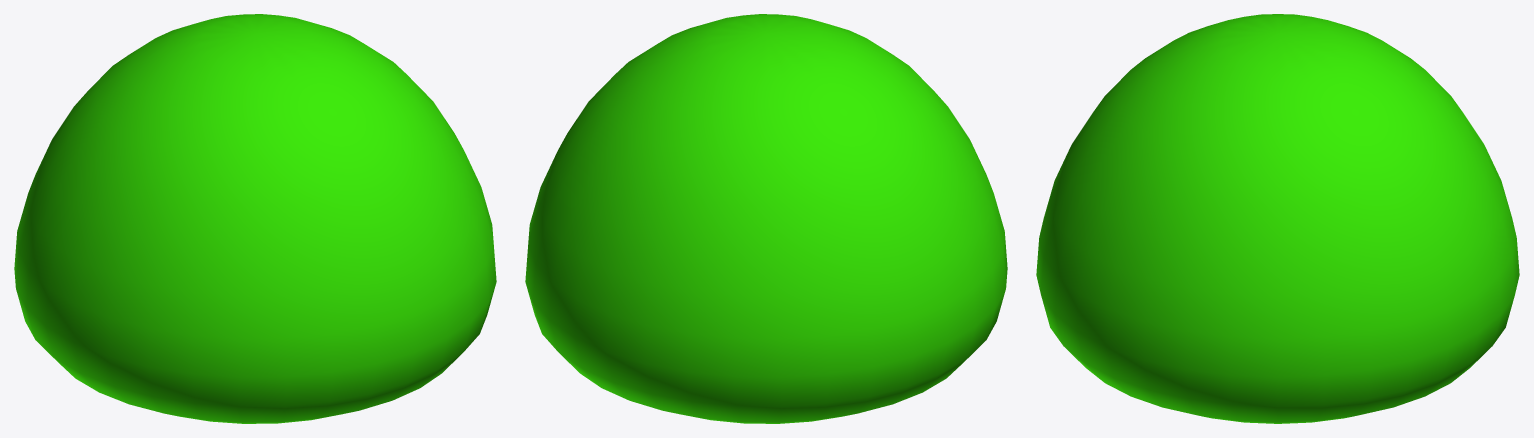
File: slime_v1.fbx
3 renders of one model, left to right at view 1: azimuth 30°, elevation 25°; view 2: azimuth 150°, elevation 25°; view 3: azimuth 270°, elevation 25°, orthographic.
Visible parts, largest first — view 1: Sphere; view 2: Sphere; view 3: Sphere.
Boxes of the visible parts, x1,y1,x2,y2 form: Sphere: (14, 14, 496, 423); Sphere: (525, 14, 1007, 423); Sphere: (1036, 14, 1519, 423).
Size of the model in its own units: 204 by 151 by 204.
